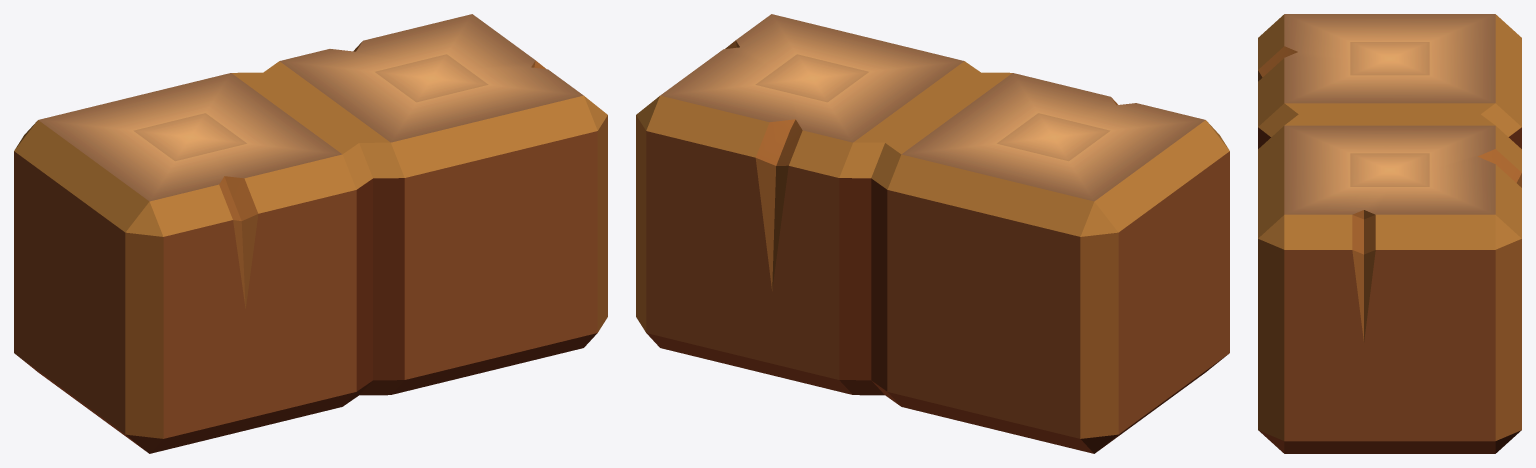
Rendered from m_kub_wood_brick.FBX.
3 views of the same model, side by side, from view 1: azimuth 30°, elevation 25°; view 2: azimuth 150°, elevation 25°; view 3: azimuth 270°, elevation 25° (orthographic). The views are drawn at different scales.
Visible parts, largest first — view 1: m_kub_wood_brick; view 2: m_kub_wood_brick; view 3: m_kub_wood_brick.
Boxes of the visible parts, <box> form: m_kub_wood_brick: <box>14,14,607,453</box>; m_kub_wood_brick: <box>636,14,1229,453</box>; m_kub_wood_brick: <box>1258,14,1521,453</box>.
Bounding box in the file's own units: 2 × 1 × 1.
